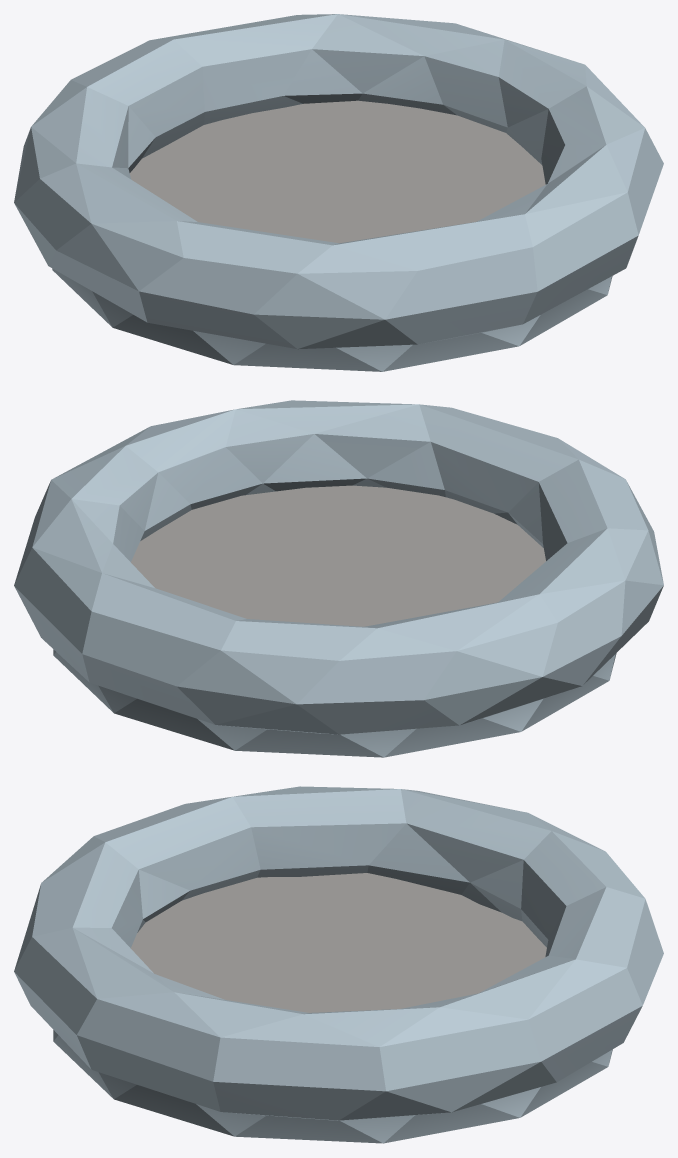
The model's file is petshop_pet_bed__blue_low.glb.
3 renders of one model, top to bottom at view 1: azimuth 30°, elevation 25°; view 2: azimuth 150°, elevation 25°; view 3: azimuth 270°, elevation 25°, orthographic.
Size of the model in its own units: 1.02 by 0.2103 by 1.02.
